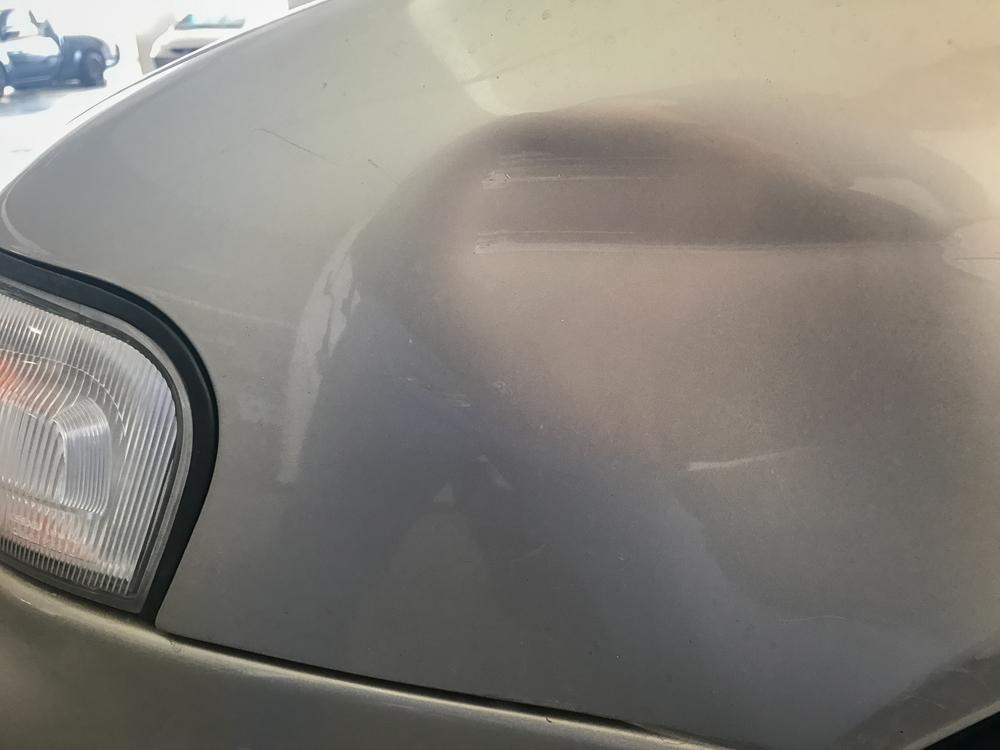dent: (406, 109, 1000, 654)
